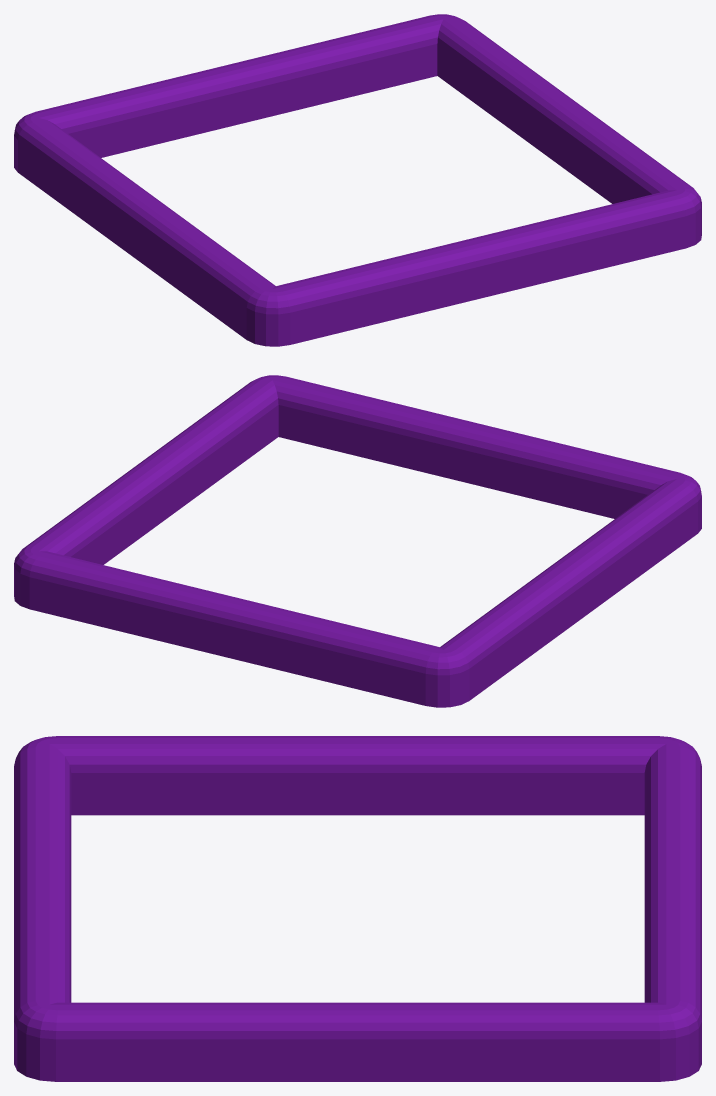
File: cellIndicator.fbx
3 views of the same model, one above another, from view 1: azimuth 30°, elevation 25°; view 2: azimuth 150°, elevation 25°; view 3: azimuth 270°, elevation 25° (orthographic). The views are drawn at different scales.
Parts seen in each view (by area): view 1: Cube; view 2: Cube; view 3: Cube.
Part boxes in pixels (x1,y1,x2,y2): Cube: [14, 14, 701, 346]; Cube: [14, 375, 701, 707]; Cube: [14, 736, 701, 1081].
Size of the model in its own units: 200 by 20 by 200.
